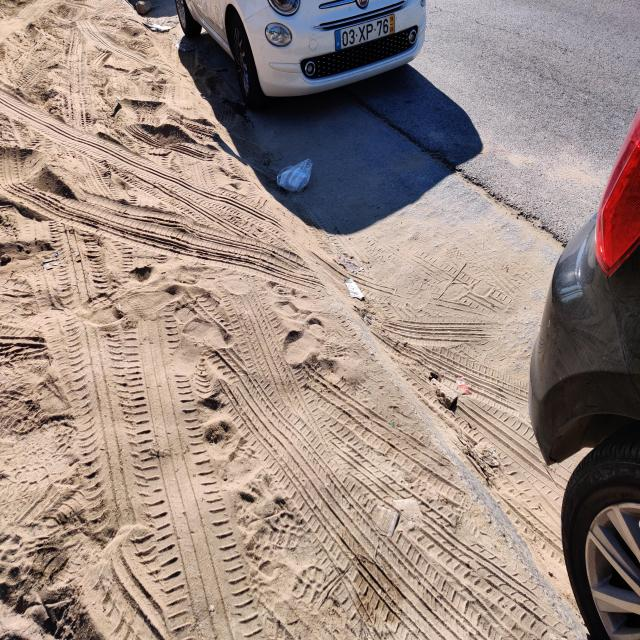litter: (273, 140, 324, 197)
